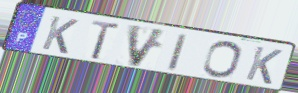I: (166, 32, 190, 73)
K: (39, 14, 81, 56), (243, 45, 284, 87)
O: (200, 40, 244, 80)
T: (89, 19, 123, 62)
V: (127, 22, 170, 69)
